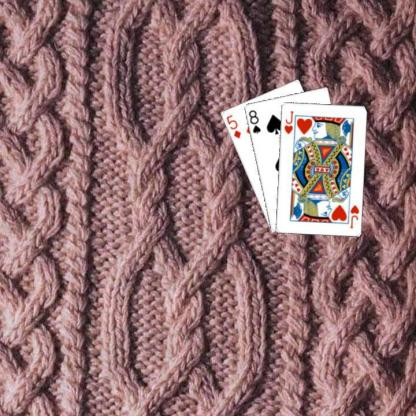5D: (224, 112, 242, 140)
8S: (246, 108, 262, 134)
JH: (347, 202, 360, 229), (281, 109, 294, 135)
